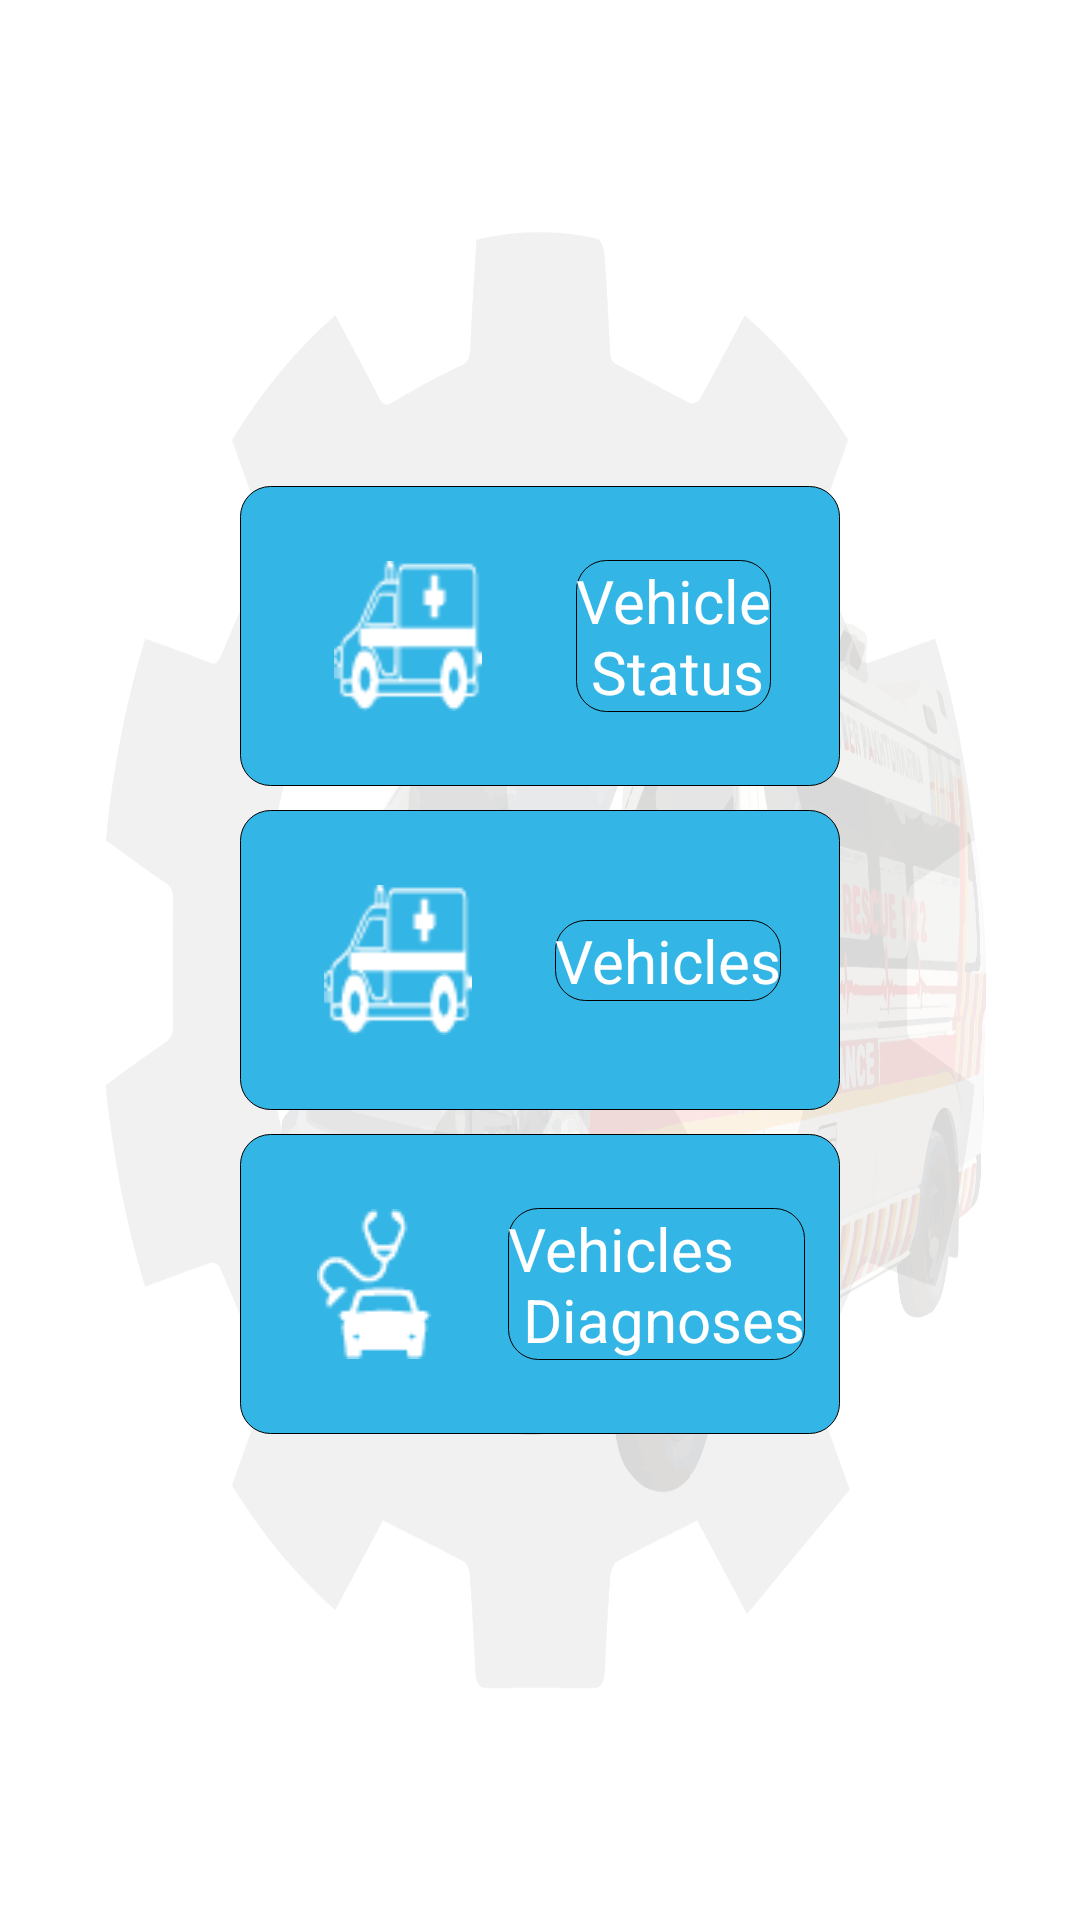

Icons on this 1080*1920 Android screen, each with its box as (x1, y1, x2, y2):
amubulances: (334, 561, 482, 711), (324, 885, 472, 1035)
vehiclediagnosis: (317, 1209, 431, 1359)
